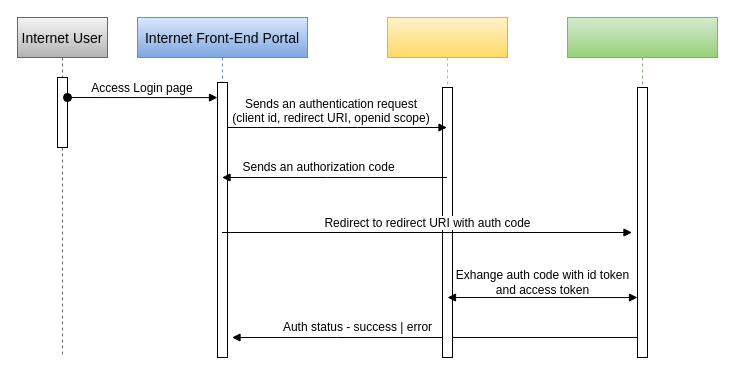
Some shapes in this 735 by 375 pixel diagram are drawn without their labels. Here are the shapes that lost their labels. From the top down, the box of each, then its label:
(386, 16, 508, 358): Singpass OIDC
(566, 16, 718, 358): Intranet Pega Server
